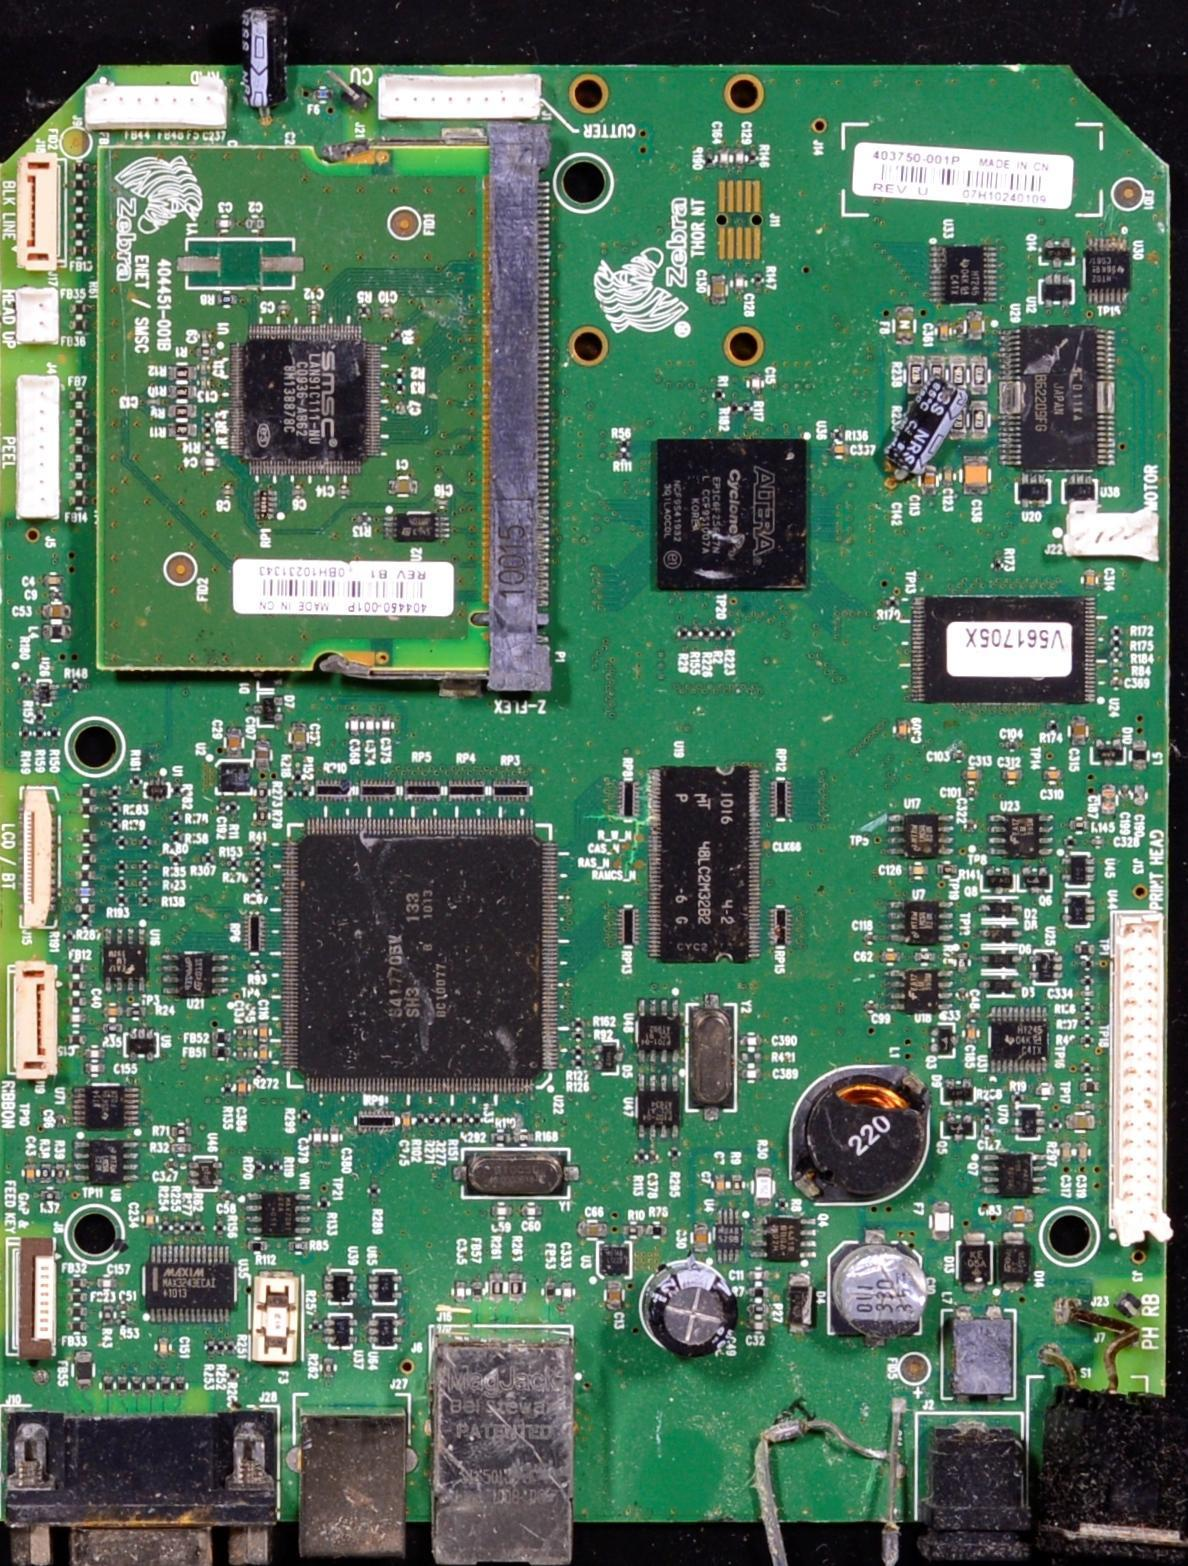Capacitor: (964, 456, 988, 498), (1006, 1207, 1035, 1224), (606, 1280, 621, 1311), (385, 478, 417, 493), (1103, 783, 1116, 818), (694, 1223, 707, 1253), (969, 310, 983, 340), (1071, 717, 1085, 747), (879, 951, 907, 965), (1067, 1118, 1093, 1131), (905, 864, 930, 876), (958, 769, 980, 782), (1043, 769, 1061, 785), (714, 1174, 725, 1198), (1085, 567, 1096, 590), (898, 716, 908, 741), (1002, 769, 1022, 781), (925, 468, 935, 492), (936, 322, 948, 340), (968, 1023, 976, 1052), (146, 1207, 153, 1234), (944, 467, 953, 487), (404, 1112, 411, 1131), (158, 1338, 166, 1358), (25, 1162, 33, 1181)
Connector: (1112, 913, 1170, 1243), (85, 85, 228, 133), (382, 78, 549, 116), (8, 966, 58, 1078), (22, 785, 56, 930), (18, 157, 59, 275)
IC: (284, 818, 557, 1093), (654, 441, 813, 593), (648, 767, 760, 962), (232, 327, 378, 475), (910, 592, 1092, 704), (997, 328, 1117, 468), (138, 1243, 237, 1321), (992, 1004, 1051, 1074), (932, 245, 996, 305), (73, 1138, 140, 1186), (245, 1193, 310, 1241), (101, 928, 149, 994), (164, 952, 227, 998), (1086, 239, 1131, 303), (888, 972, 956, 1015), (990, 811, 1051, 857), (637, 1073, 681, 1136), (889, 814, 956, 854), (635, 998, 678, 1061), (891, 900, 951, 943), (74, 1088, 140, 1126), (379, 514, 454, 538), (715, 1208, 744, 1265), (217, 759, 256, 796), (599, 1239, 632, 1279), (188, 1154, 222, 1190), (1061, 851, 1095, 887), (1064, 892, 1096, 928), (1015, 1104, 1044, 1140), (369, 1313, 396, 1351), (324, 1316, 353, 1352), (327, 1268, 352, 1306), (371, 1273, 395, 1306)
Resistor: (169, 423, 203, 435), (166, 366, 197, 379), (168, 386, 198, 399), (168, 405, 198, 418), (170, 1124, 190, 1136), (170, 1144, 192, 1152)
Transistor: (750, 1217, 814, 1264), (984, 1152, 1043, 1200), (931, 1025, 956, 1063), (1020, 864, 1052, 892), (1039, 277, 1073, 305), (980, 866, 1013, 892), (1041, 238, 1071, 264), (943, 1113, 977, 1136)
